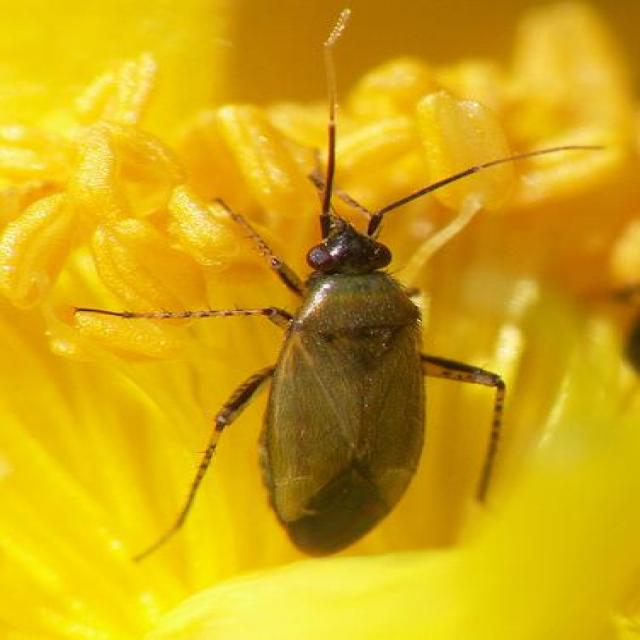Miridae-Adult-: (71, 8, 606, 568)
